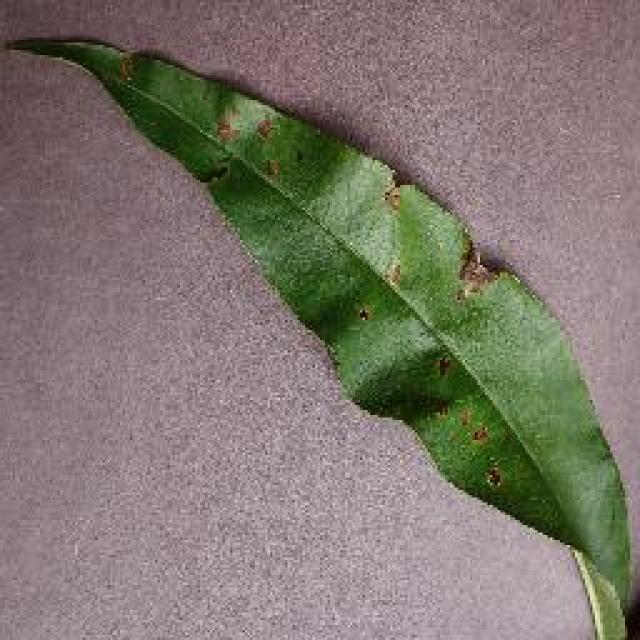Peach_Bacterial_Spot: (192, 62, 526, 370)
